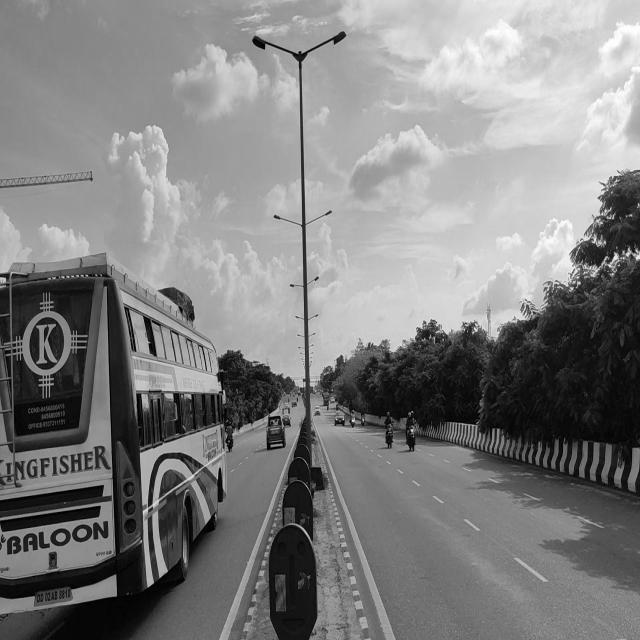bus: (3, 262, 232, 640)
car: (264, 409, 287, 456)
license-plate: (34, 579, 74, 612)
